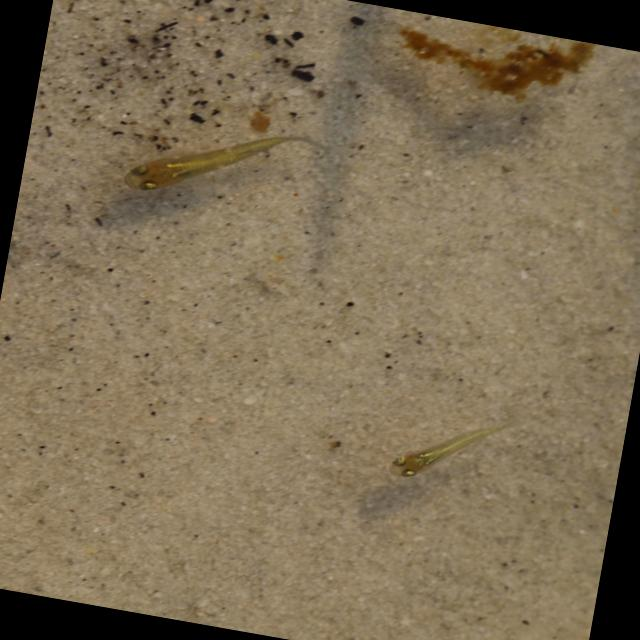Sivrisinek Baligi: (112, 97, 313, 239), (381, 404, 511, 500)
